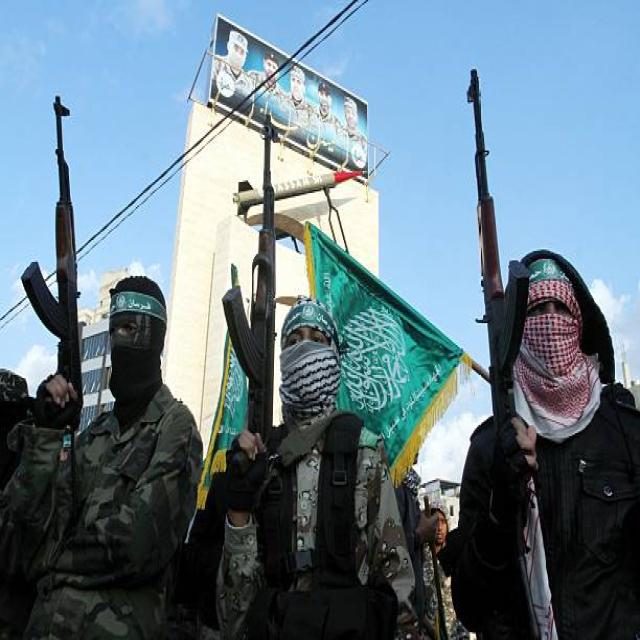terrorist: (445, 69, 639, 638), (0, 96, 201, 638), (201, 115, 408, 638)
